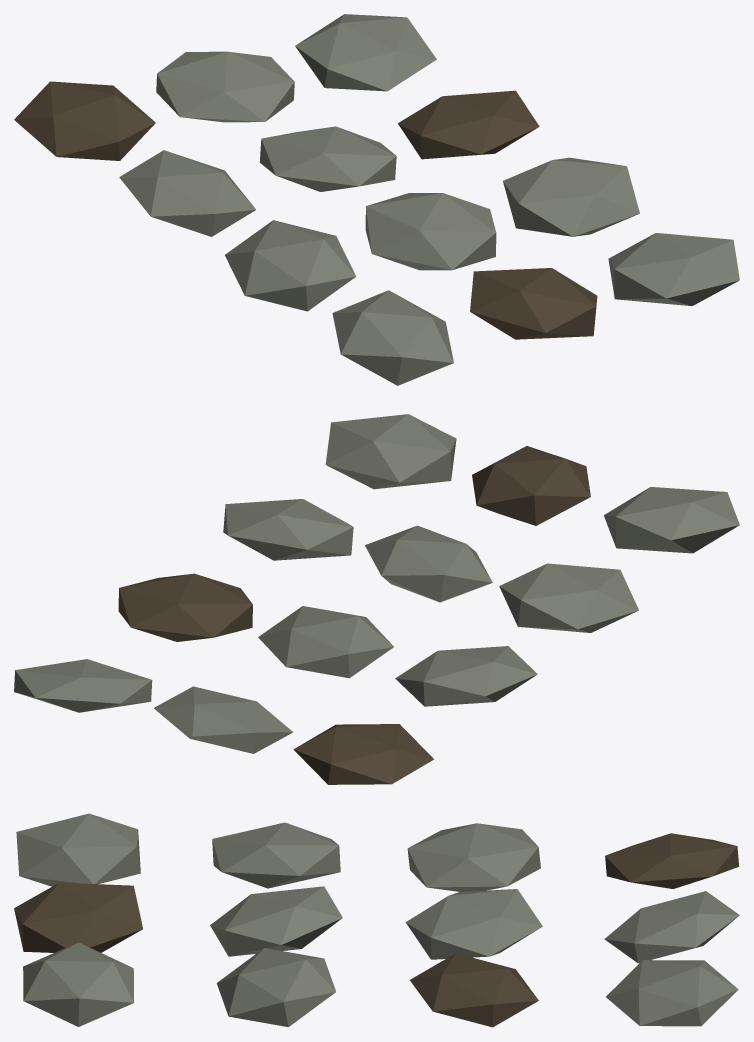
Rendered from cobble-fade.glb.
The picture shows the model from 3 angles, top to bottom: view 1: azimuth 30°, elevation 25°; view 2: azimuth 150°, elevation 25°; view 3: azimuth 270°, elevation 25°; orthographic projection. The views are drawn at different scales.
Parts seen in each view (by area): view 1: cobble-fade; view 2: cobble-fade; view 3: cobble-fade.
Part boxes in pixels (x1,y1,x2,y2): cobble-fade: [14, 14, 739, 385]; cobble-fade: [14, 414, 739, 784]; cobble-fade: [14, 813, 739, 1027].
Bounding box in the file's own units: 0.8565 × 0.1203 × 1.39.
